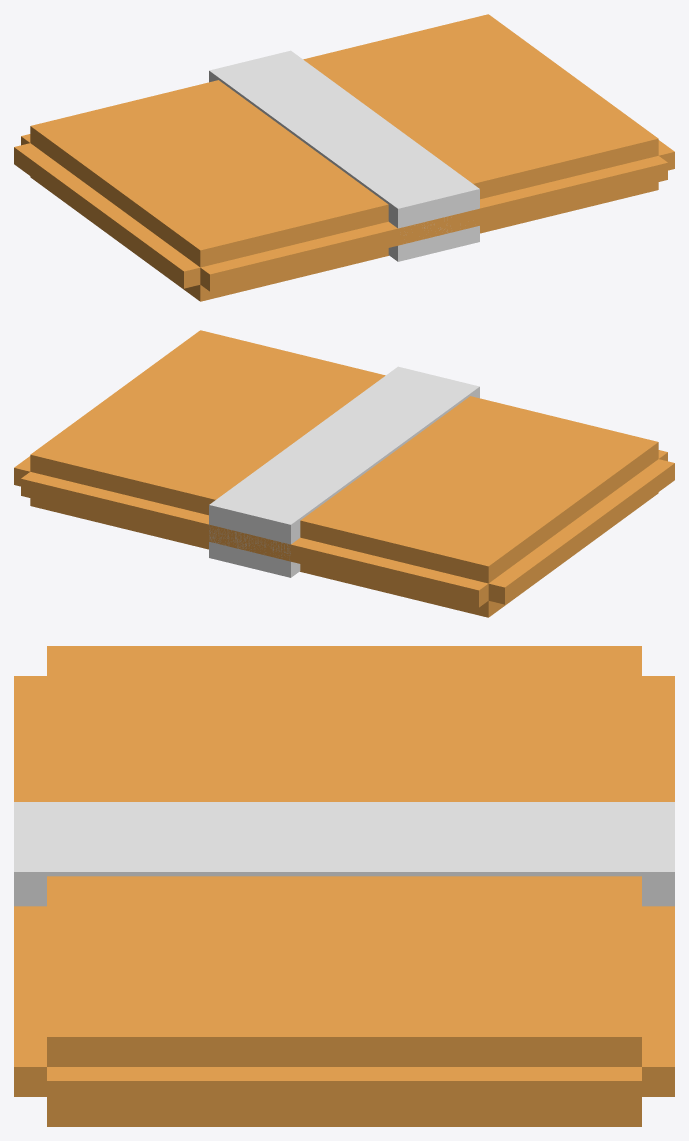
The model's file is pickles_vest.glb.
3 renders of one model, top to bottom at view 1: azimuth 30°, elevation 25°; view 2: azimuth 150°, elevation 25°; view 3: azimuth 270°, elevation 25°, orthographic. The views are drawn at different scales.
Parts seen in each view (by area): view 1: pickles_vest; view 2: pickles_vest; view 3: pickles_vest.
Part boxes in pixels (bbox=[...]): pickles_vest: bbox=[14, 14, 674, 301]; pickles_vest: bbox=[14, 330, 674, 617]; pickles_vest: bbox=[14, 646, 674, 1126].
Bounding box in the file's own units: 0.3 × 0.0315 × 0.2.
